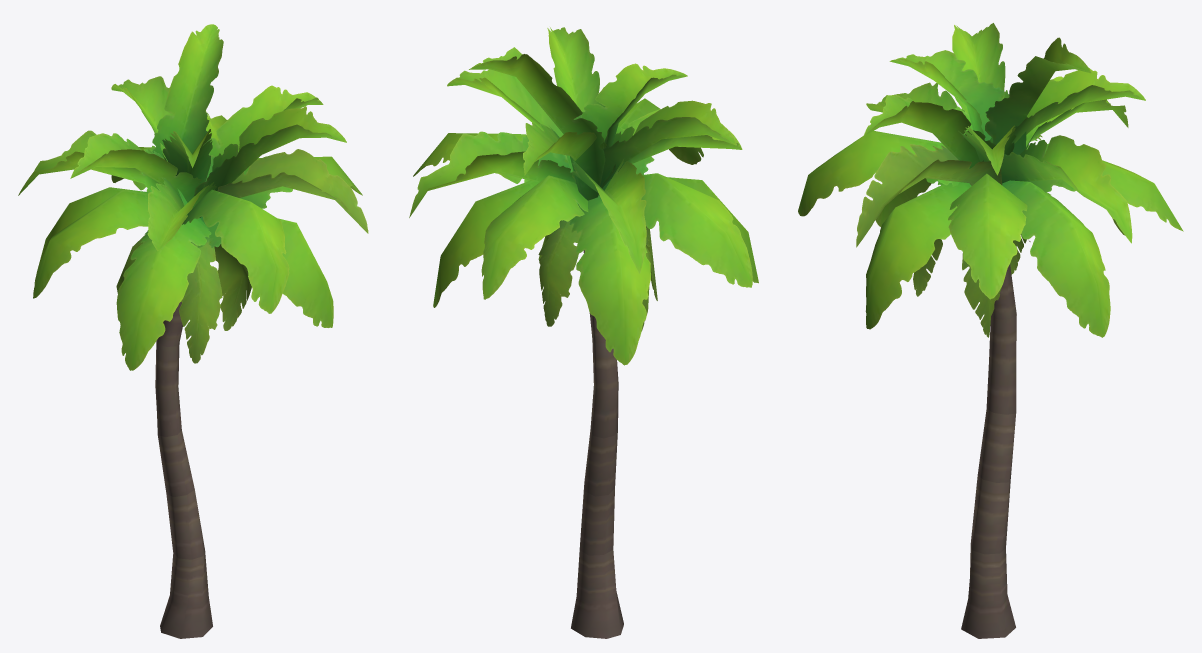
File: P_plant_1310.fbx
3 views of the same model, side by side, from view 1: azimuth 30°, elevation 25°; view 2: azimuth 150°, elevation 25°; view 3: azimuth 270°, elevation 25° (orthographic). The views are drawn at different scales.
Visible parts, largest first — view 1: S_plant_1310_b, S_plant_1310_a; view 2: S_plant_1310_b, S_plant_1310_a; view 3: S_plant_1310_b, S_plant_1310_a.
Boxes of the visible parts, box(x1,y1,x2,y2) form: S_plant_1310_b: box(18, 24, 368, 370); S_plant_1310_a: box(155, 302, 212, 638); S_plant_1310_b: box(409, 27, 758, 365); S_plant_1310_a: box(571, 250, 623, 638); S_plant_1310_b: box(798, 23, 1183, 337); S_plant_1310_a: box(961, 264, 1016, 638).
Bounding box in the file's own units: 2.79 × 4.58 × 2.63.
